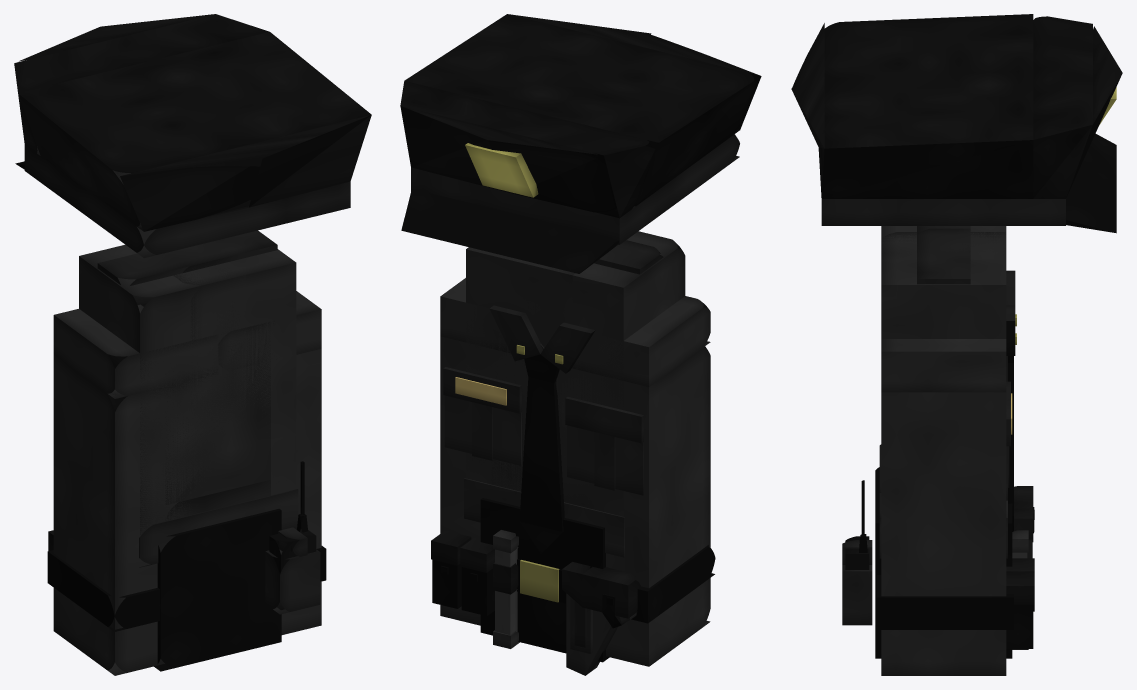
The model's file is nypd1.obj.
3 renders of one model, left to right at view 1: azimuth 30°, elevation 25°; view 2: azimuth 150°, elevation 25°; view 3: azimuth 270°, elevation 25°, orthographic. The views are drawn at different scales.
Parts seen in each view (by area): view 1: bodyModel0, headModel5, rightArmModel1, leftBootModel0, headModel2, leftArmModel1, leftLegModel1, headModel0, bodyModel1, headModel3, bodyModel10, bodyModel47 (+8 smaller); view 2: bodyModel0, headModel5, rightArmModel1, headModel4, leftArmModel1, headModel1, headModel3, headModel0, leftBootModel0, bodyModel1, bodyModel21, bodyModel18 (+30 smaller); view 3: headModel5, bodyModel0, headModel3, leftArmModel1, bodyModel2, headModel0, bodyModel10, headModel1, leftArmModel4, headModel2, rightArmModel1, headModel4 (+8 smaller).
Boxes of the visible parts, left/top/right/bottom form: bodyModel0: left=53, top=348, right=321, bottom=675; headModel5: left=18, top=32, right=371, bottom=231; rightArmModel1: left=79, top=244, right=245, bottom=536; leftBootModel0: left=154, top=508, right=281, bottom=671; headModel2: left=120, top=115, right=371, bottom=231; leftArmModel1: left=141, top=249, right=296, bottom=495; leftLegModel1: left=138, top=304, right=270, bottom=504; headModel0: left=24, top=145, right=350, bottom=257; bodyModel1: left=53, top=305, right=218, bottom=398; headModel3: left=14, top=14, right=269, bottom=153; bodyModel10: left=47, top=546, right=326, bottom=631; bodyModel47: left=265, top=549, right=320, bottom=614; bodyModel0: left=440, top=336, right=710, bottom=666; headModel5: left=404, top=14, right=757, bottom=206; rightArmModel1: left=517, top=231, right=685, bottom=516; headModel4: left=400, top=106, right=616, bottom=216; leftArmModel1: left=466, top=247, right=575, bottom=490; headModel1: left=401, top=189, right=618, bottom=273; headModel3: left=400, top=81, right=655, bottom=218; headModel0: left=411, top=134, right=739, bottom=244; leftBootModel0: left=480, top=498, right=609, bottom=662; bodyModel1: left=572, top=296, right=710, bottom=386; bodyModel21: left=519, top=377, right=564, bottom=531; bodyModel18: left=444, top=395, right=521, bottom=465; headModel5: left=821, top=14, right=1033, bottom=198; bodyModel0: left=881, top=392, right=1006, bottom=675; headModel3: left=1033, top=16, right=1092, bottom=198; leftArmModel1: left=881, top=232, right=1006, bottom=338; bodyModel2: left=881, top=339, right=1006, bottom=392; headModel0: left=821, top=199, right=1065, bottom=225; bodyModel10: left=876, top=575, right=1013, bottom=629; headModel1: left=1066, top=133, right=1116, bottom=233; leftArmModel4: left=917, top=228, right=970, bottom=284; headModel2: left=791, top=23, right=824, bottom=197; rightArmModel1: left=881, top=226, right=1006, bottom=259; headModel4: left=1067, top=26, right=1122, bottom=196.
Bounding box in the file's own units: 10 × 20.95 × 11.15.
